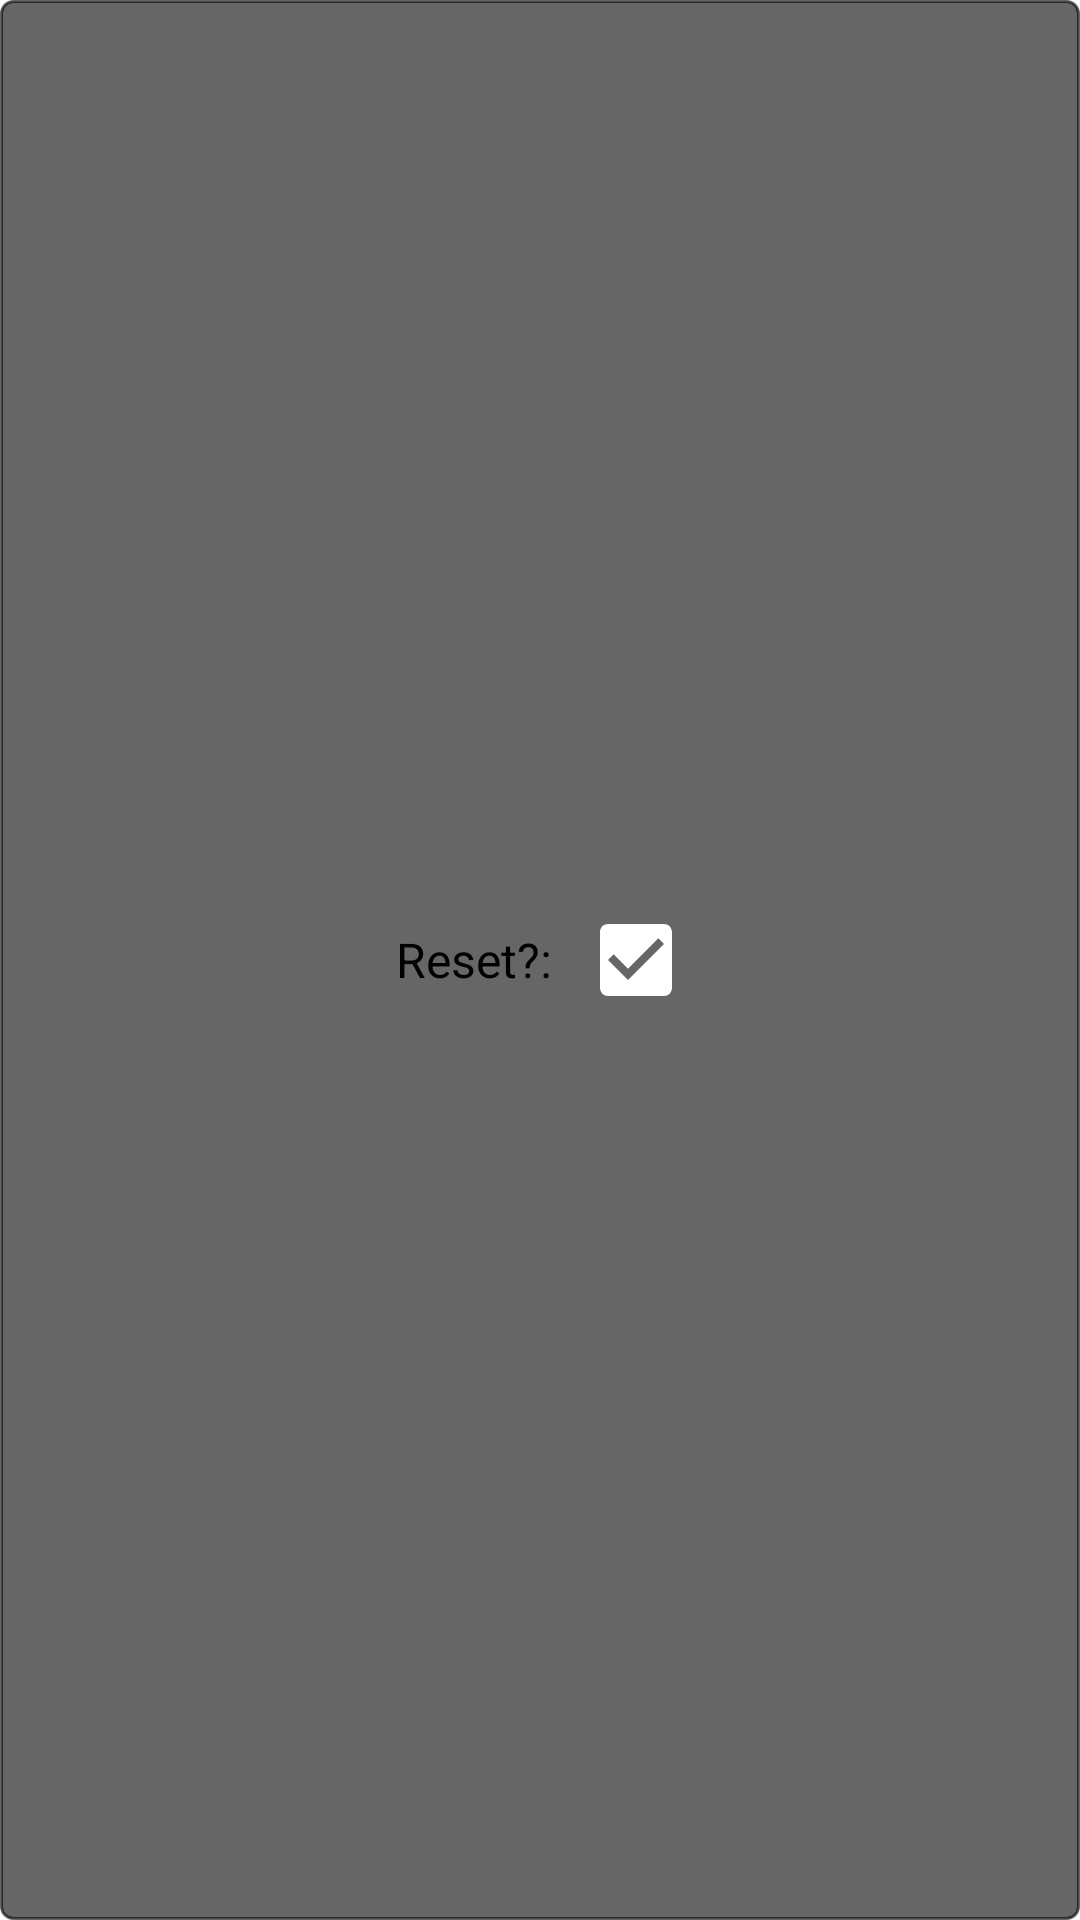

Icon bounding boxes for this 1080*1920 phone screenshot, format (x1, y1, x2, y2):
confirm: (600, 924, 672, 996)
